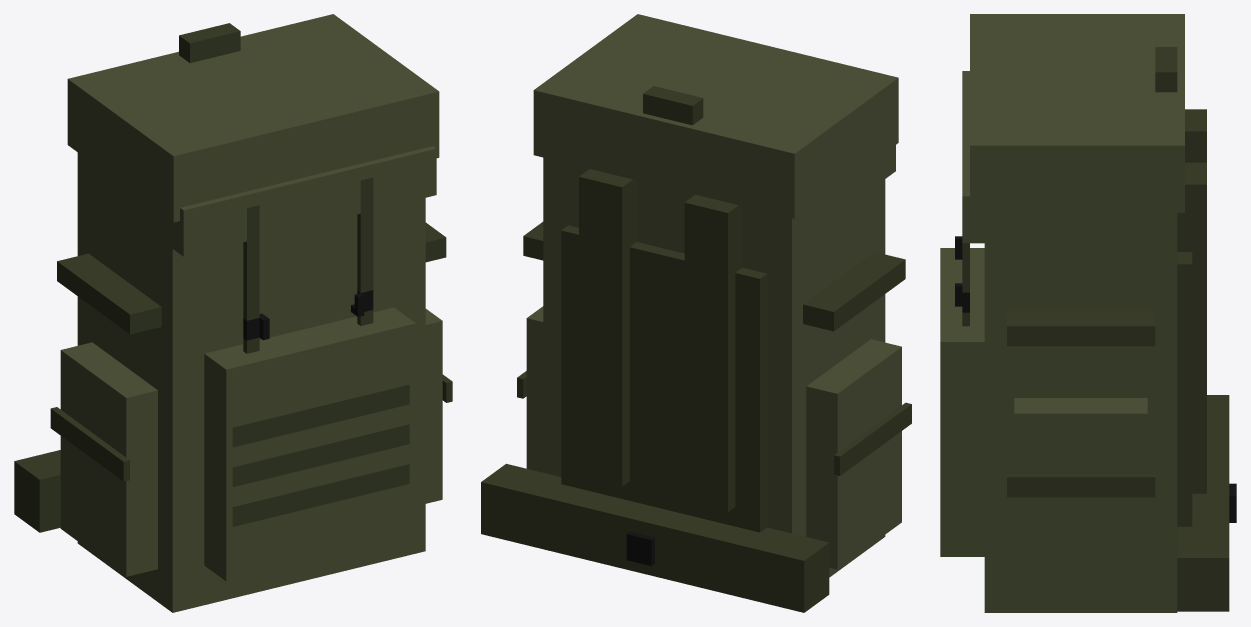
The model's file is rucksack.glb.
The picture shows the model from 3 angles, left to right: view 1: azimuth 30°, elevation 25°; view 2: azimuth 150°, elevation 25°; view 3: azimuth 270°, elevation 25°; orthographic projection. The views are drawn at different scales.
Parts seen in each view (by area): view 1: rucksack:compound; view 2: rucksack:compound; view 3: rucksack:compound.
Boxes of the visible parts, bbox=[...] form: rucksack:compound: bbox=[14, 14, 452, 612]; rucksack:compound: bbox=[481, 14, 911, 612]; rucksack:compound: bbox=[940, 14, 1236, 612].
Bounding box in the file's own units: 0.52 × 0.73 × 0.4.
